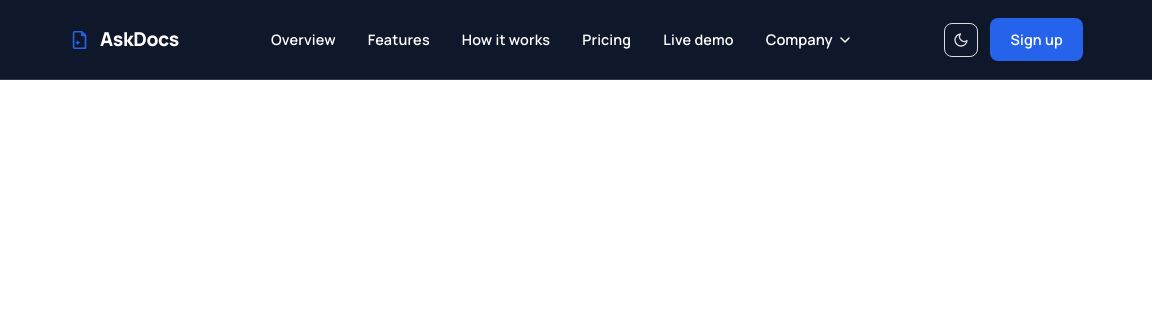
Test: LandingNavbar › keeps the Company menu open through the hover grace period and cancels it on re-enter
Step 1. Hover over the element with class "nav-group--company" → x=809, y=40, box [754,24,864,55]
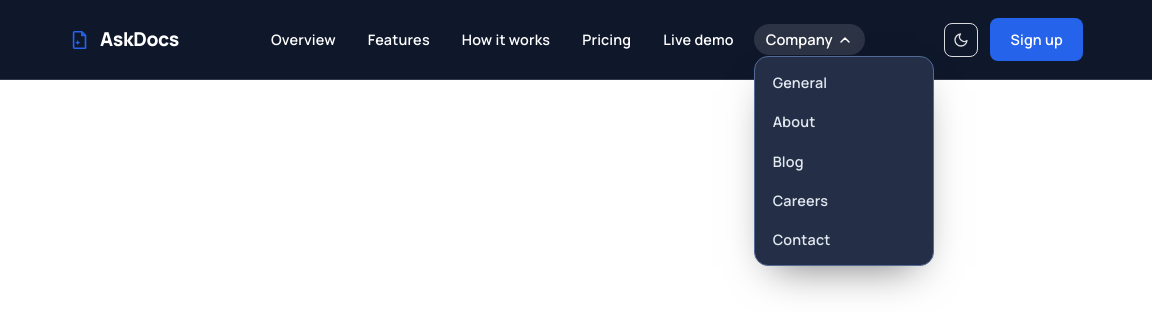
Check: the button "Company" is expanded
Note: Briefly leave (crossing the moat), then come back before the timer fires.
Step 2. Move the pointer off the element with class "nav-group--company", box [754,24,864,55]
Check: the button "Company" is expanded
Step 3. Hover over the element with class "nav-group--company" → x=809, y=40, box [754,24,864,55]
Check: the button "Company" is expanded
Note: Leaving for good closes the menu once the grace expires.
Step 4. Move the pointer off the element with class "nav-group--company", box [754,24,864,55]
Wait 200 ms
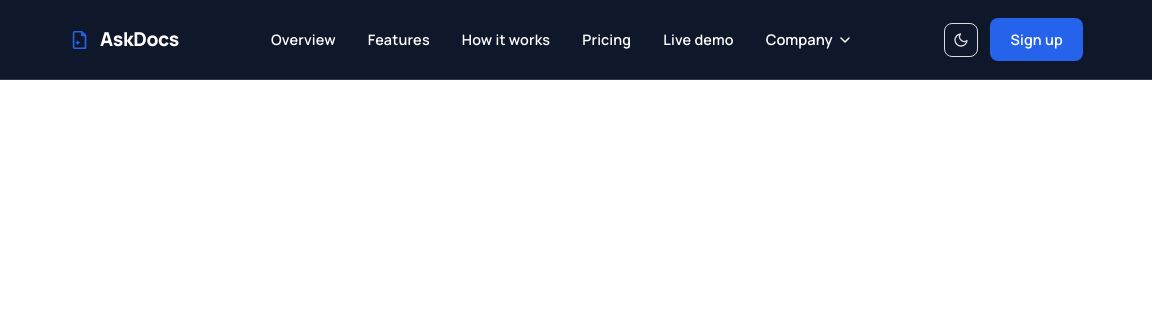
Check: the button "Company" is collapsed, box [754,24,864,55]
